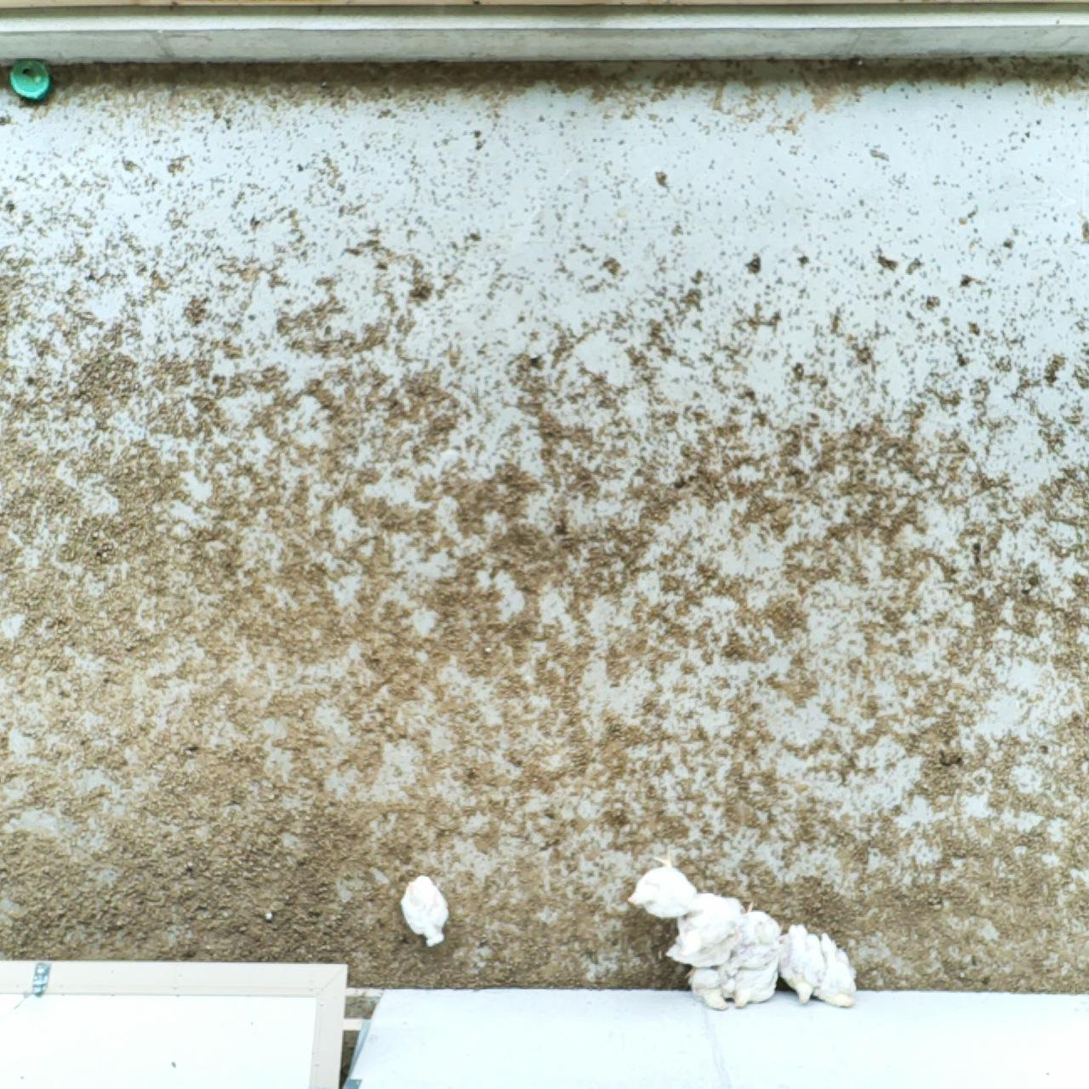chicken: (629, 847, 708, 920), (806, 925, 863, 1016), (676, 888, 752, 950), (399, 869, 450, 950), (777, 918, 826, 1002), (680, 959, 738, 1014), (732, 957, 781, 1014), (660, 934, 743, 967), (726, 909, 787, 950), (732, 938, 785, 972)
